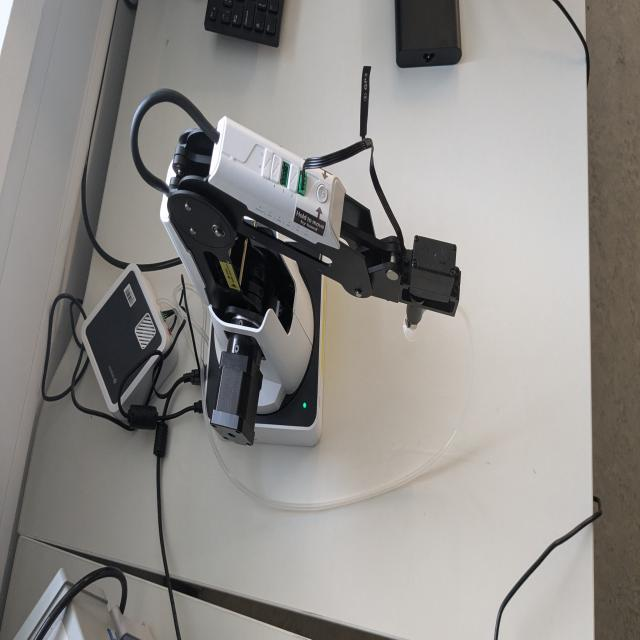Robot-end-effector-HF8z: (398, 227, 466, 347)
